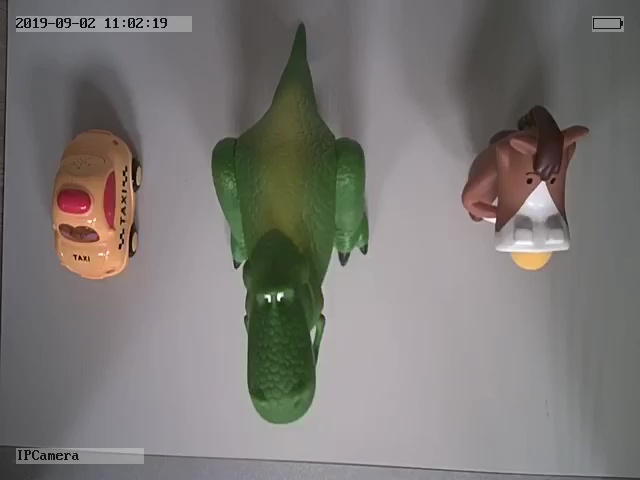car: (48, 125, 145, 283)
horse: (459, 102, 589, 271)
rex: (209, 20, 371, 425)
